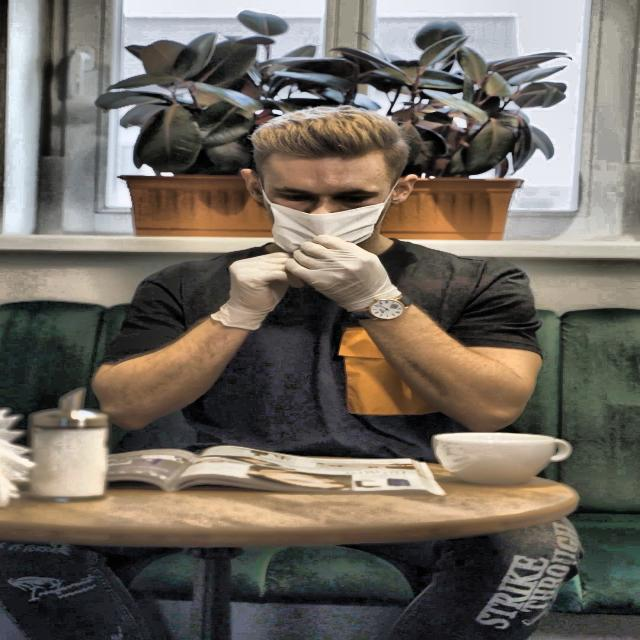gloved: (280, 228, 454, 322), (210, 243, 300, 329)
